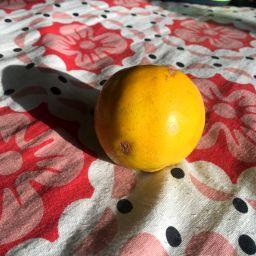Ripe: (95, 65, 204, 173)
